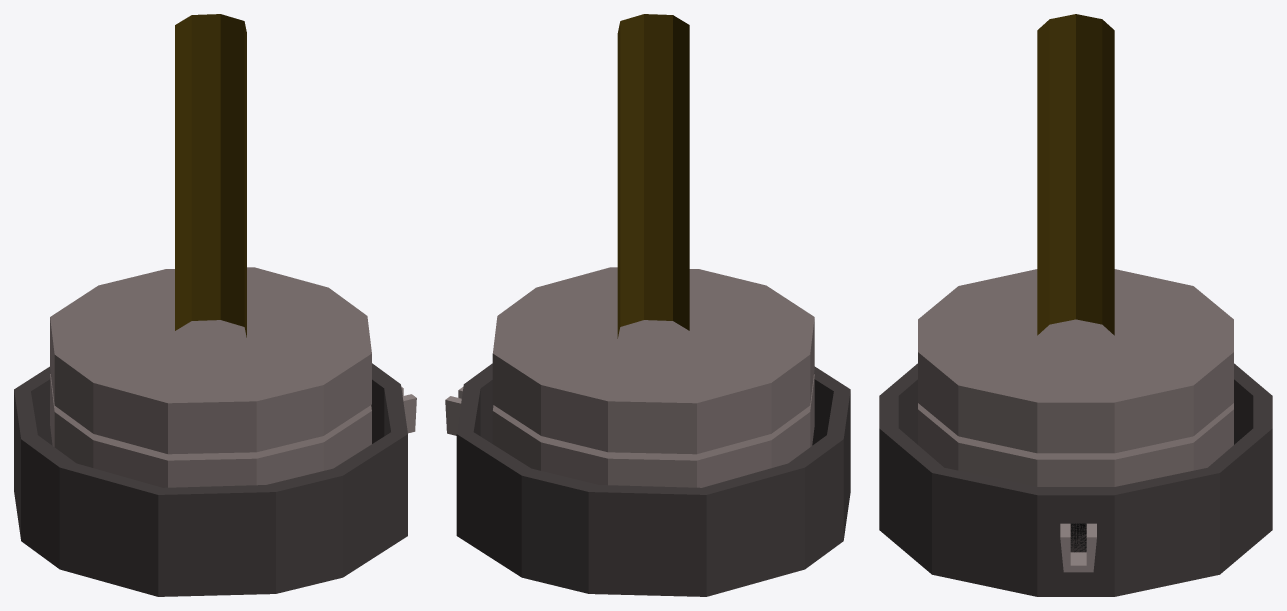
File: obj_millstones_0.obj
3 views of the same model, side by side, from view 1: azimuth 30°, elevation 25°; view 2: azimuth 150°, elevation 25°; view 3: azimuth 270°, elevation 25° (orthographic).
Size of the model in its own units: 1.89 by 2.38 by 1.75.
